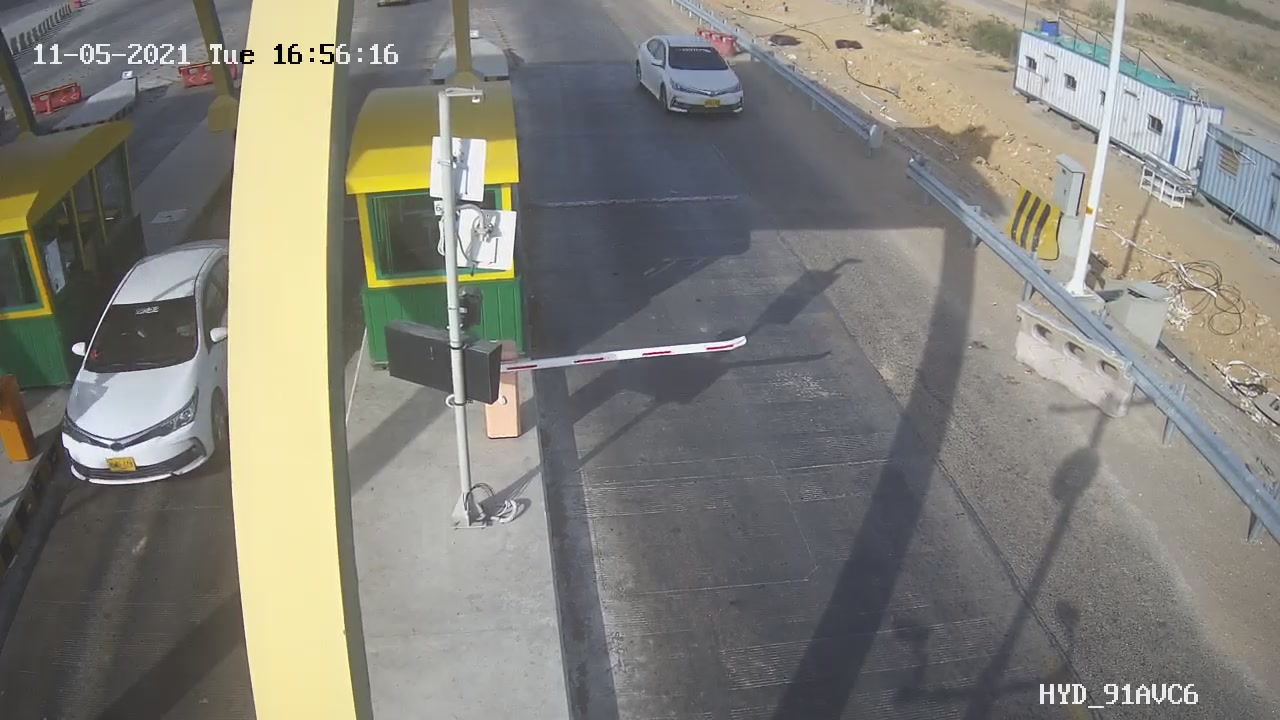F1: (624, 24, 759, 138)
